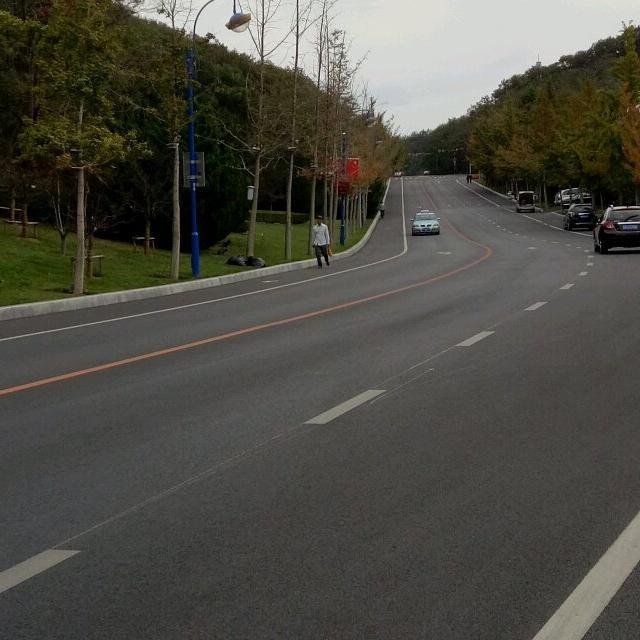curb: (0, 259, 313, 321), (336, 216, 378, 257)
